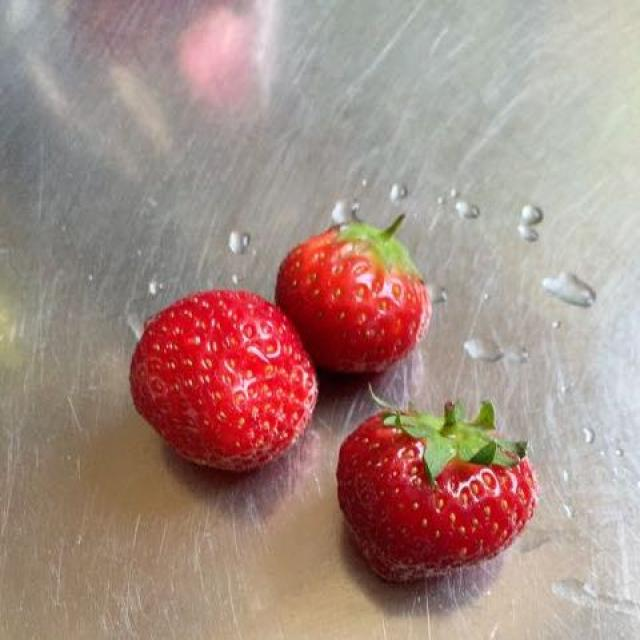strawberries: (130, 291, 318, 463)
